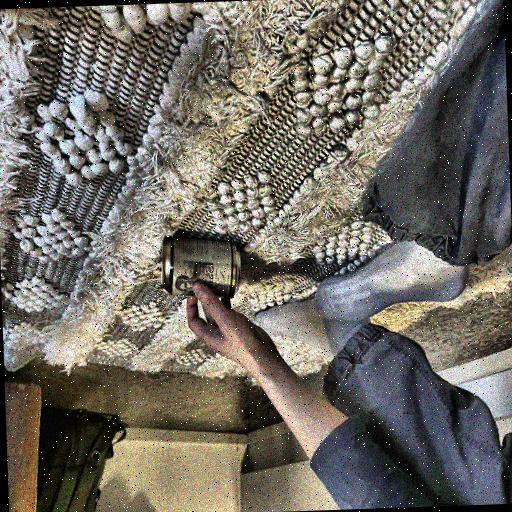sandels: (153, 238, 250, 307)
